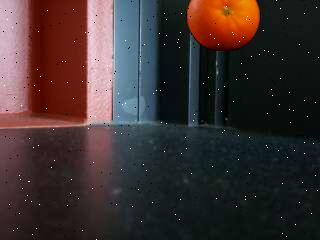Orange: (187, 0, 261, 53)
